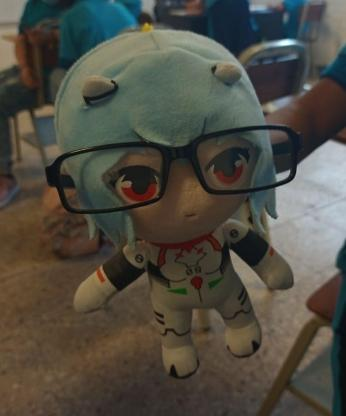rei-plush: (35, 22, 311, 372)
